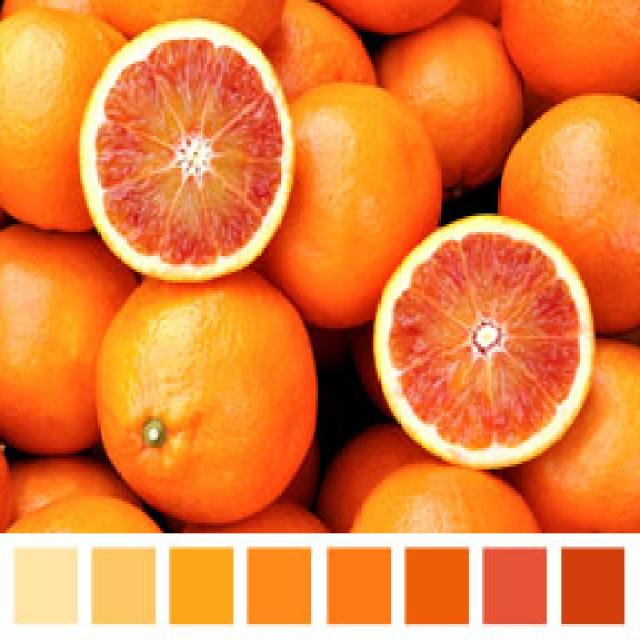apple: (98, 275, 322, 520), (284, 83, 449, 325), (2, 224, 149, 459), (500, 91, 640, 336), (2, 11, 129, 242), (371, 16, 522, 195), (531, 336, 640, 525), (347, 458, 549, 530)
